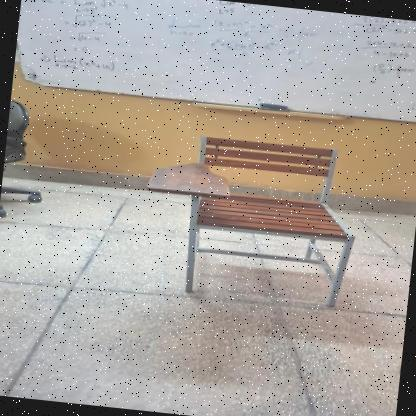chair: (131, 124, 372, 317)
